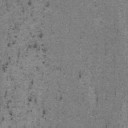oxide scale of temperature system: (0, 22, 46, 120), (2, 90, 14, 128), (21, 0, 50, 13), (58, 94, 64, 102), (56, 66, 62, 72), (78, 73, 82, 80), (96, 96, 99, 103), (104, 124, 108, 128)
